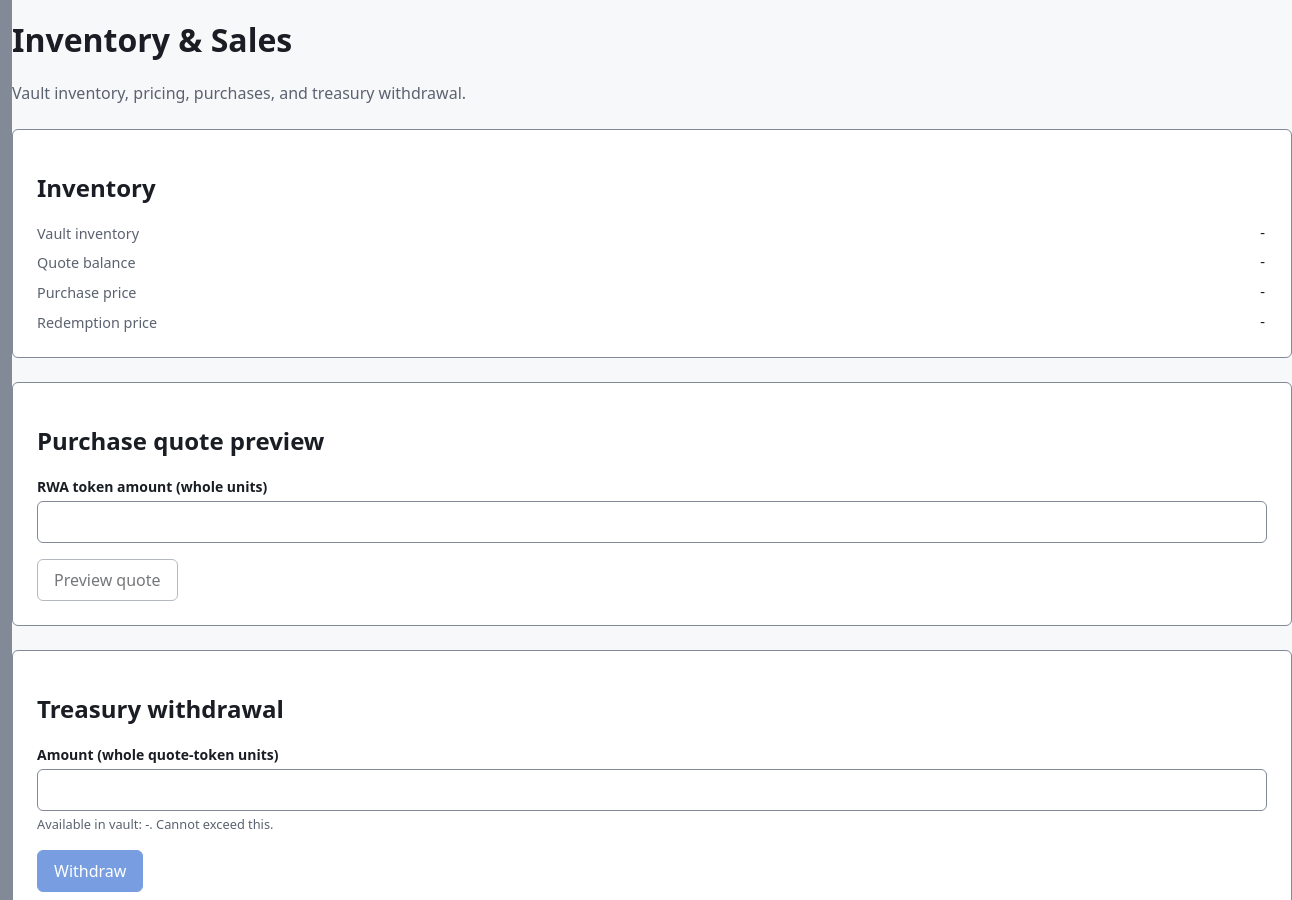
Test: InventorySales amount conversion › explains a sequencer outage in the quote preview instead of a raw revert
The image size is (1292, 900).
In the field labelled "RWA token amount (whole units)": (652, 522) [37,501,1267,543], type "1"
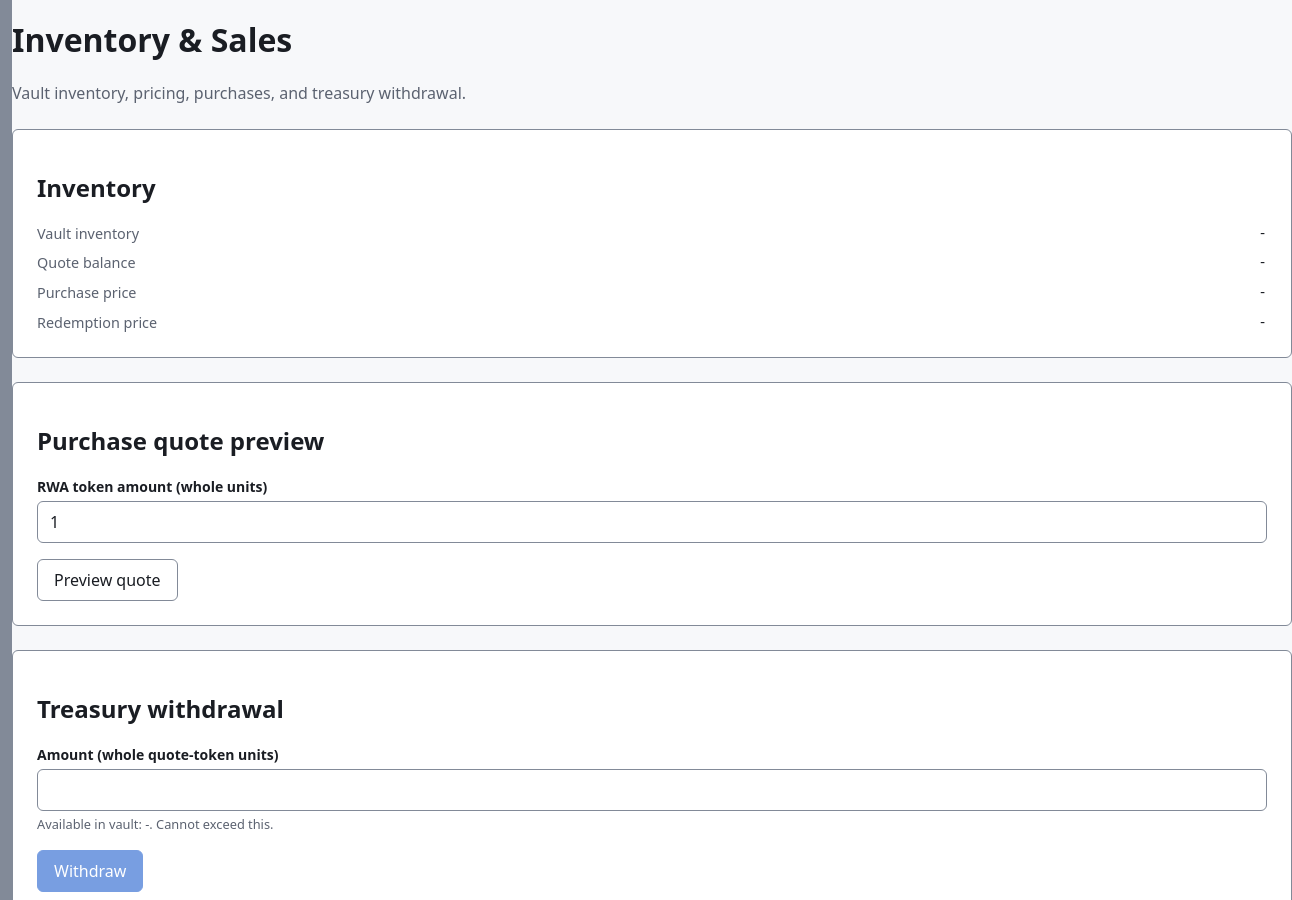
Click the button "Preview quote": (107, 580) [37,559,178,601]
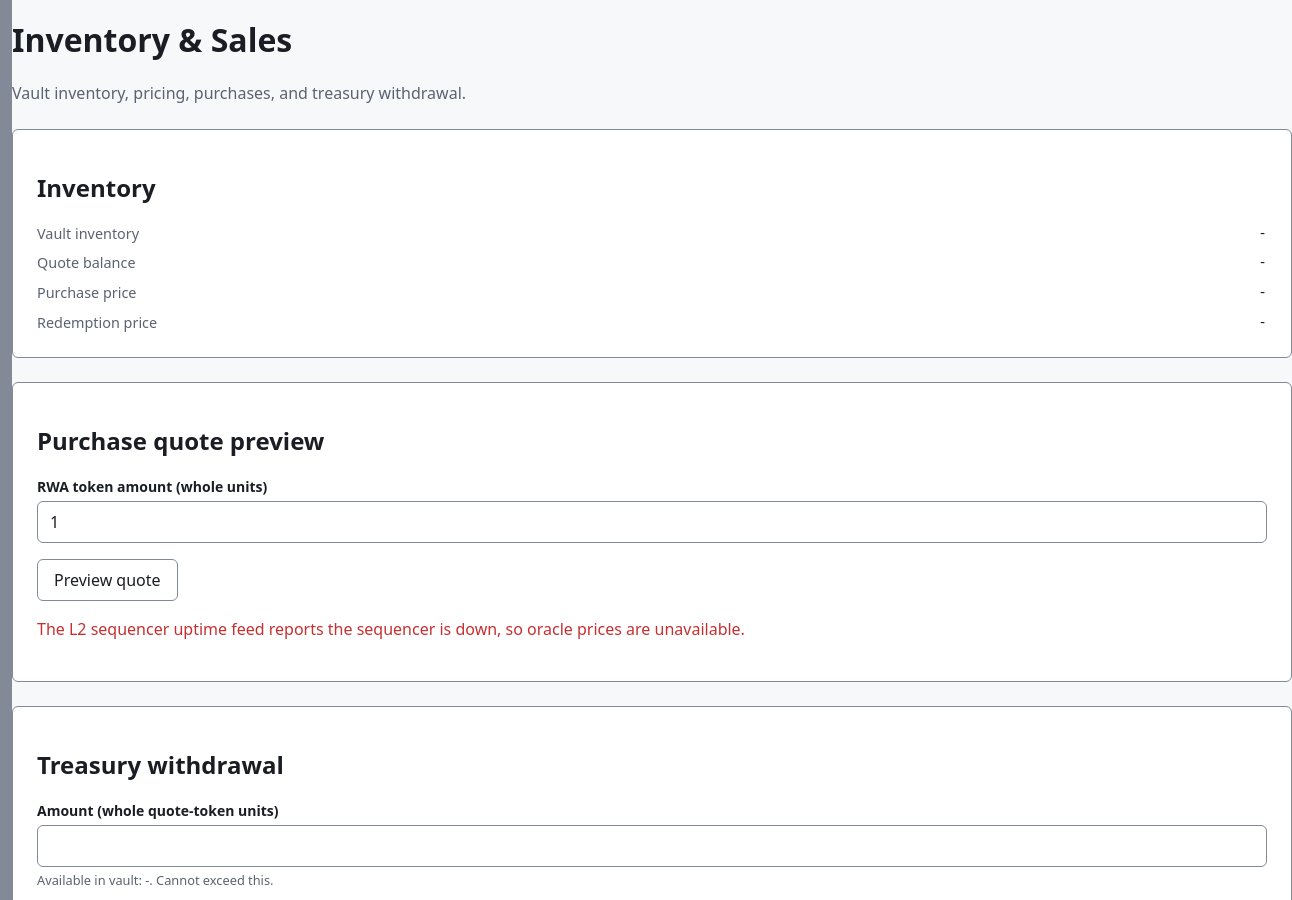
Now the text "sequencer uptime feed reports the sequencer is down" is shown, box [37,618,745,640]
